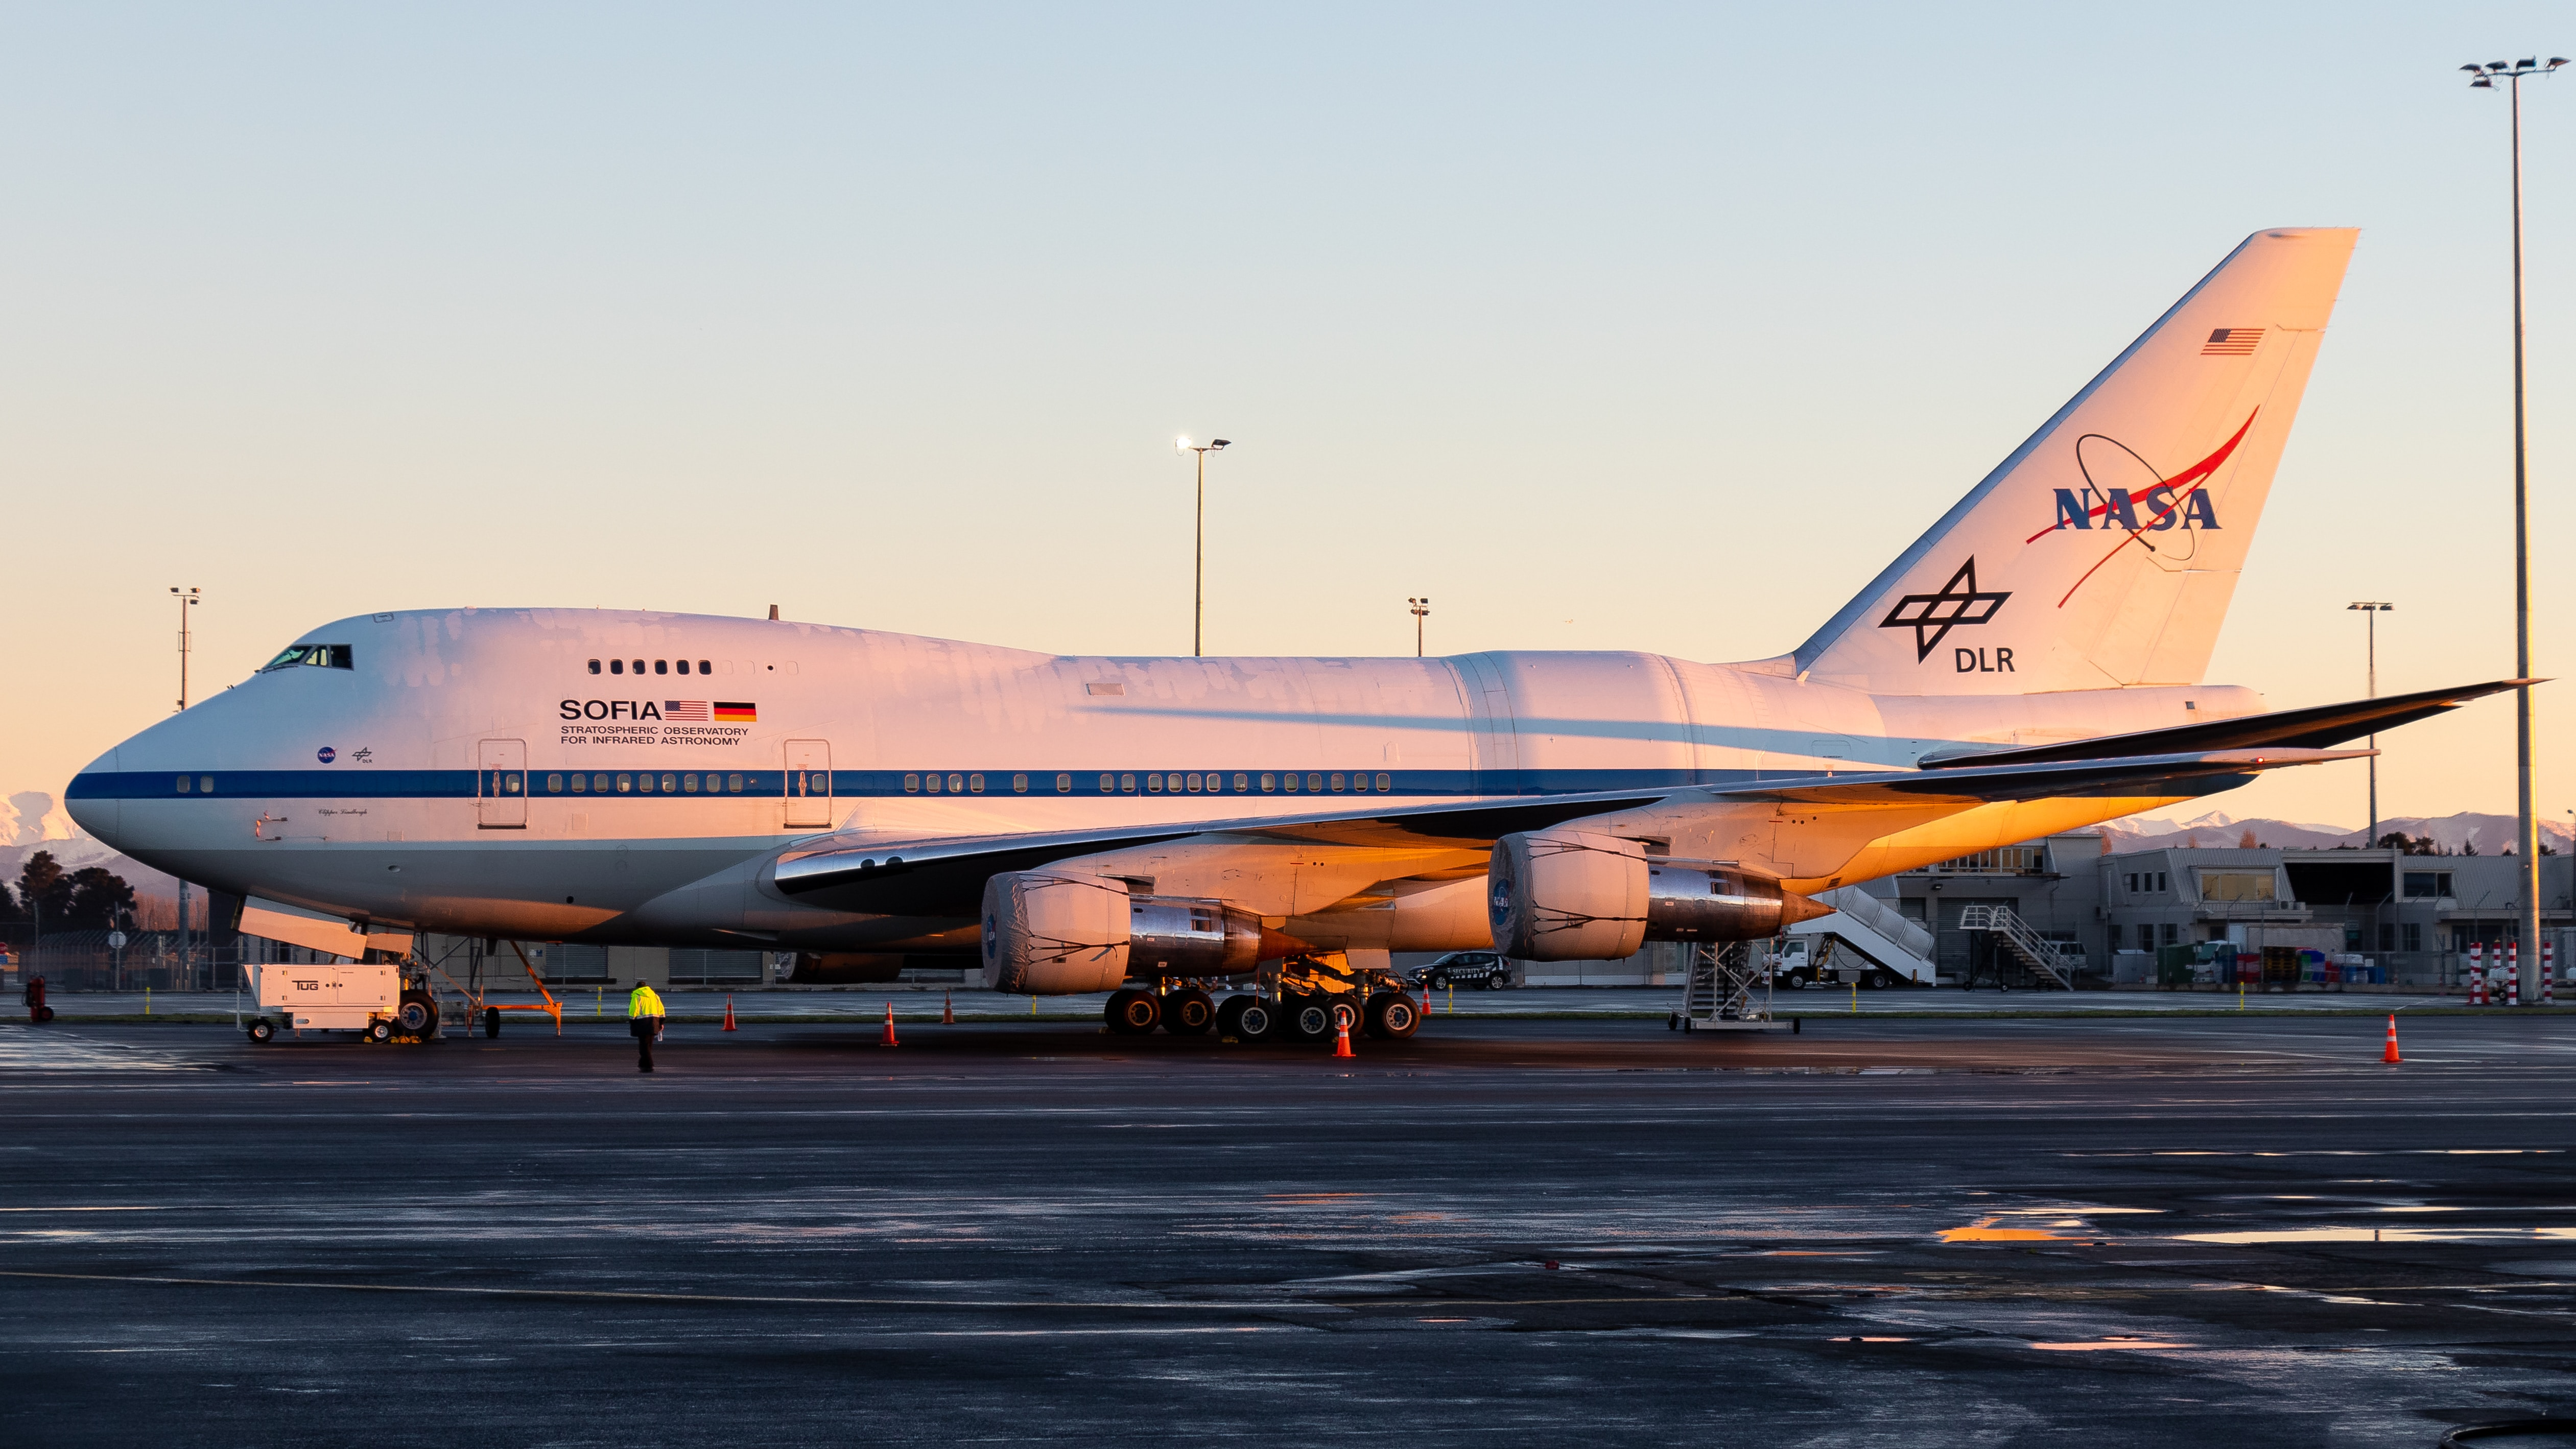airplane: (32, 53, 2525, 1081)
